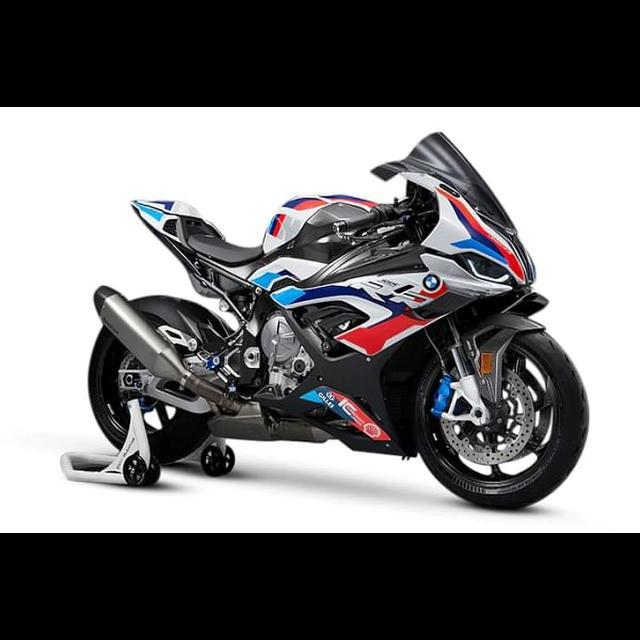motorcycle: (83, 125, 593, 516)
